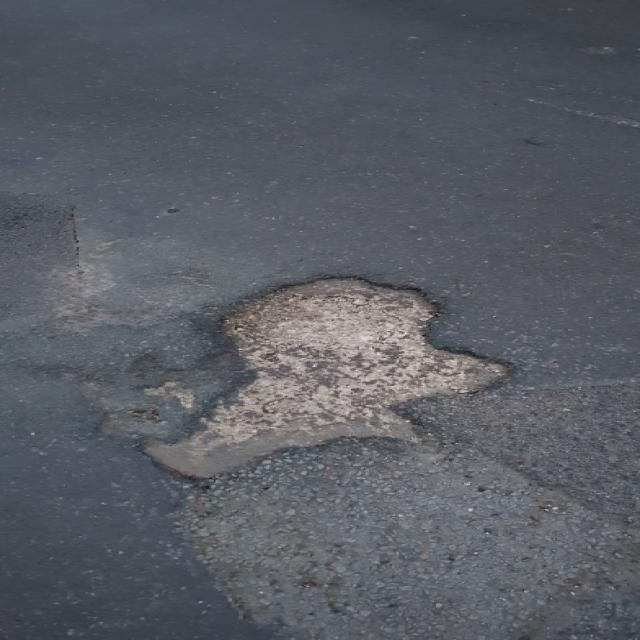Pothole: (132, 273, 527, 489)
